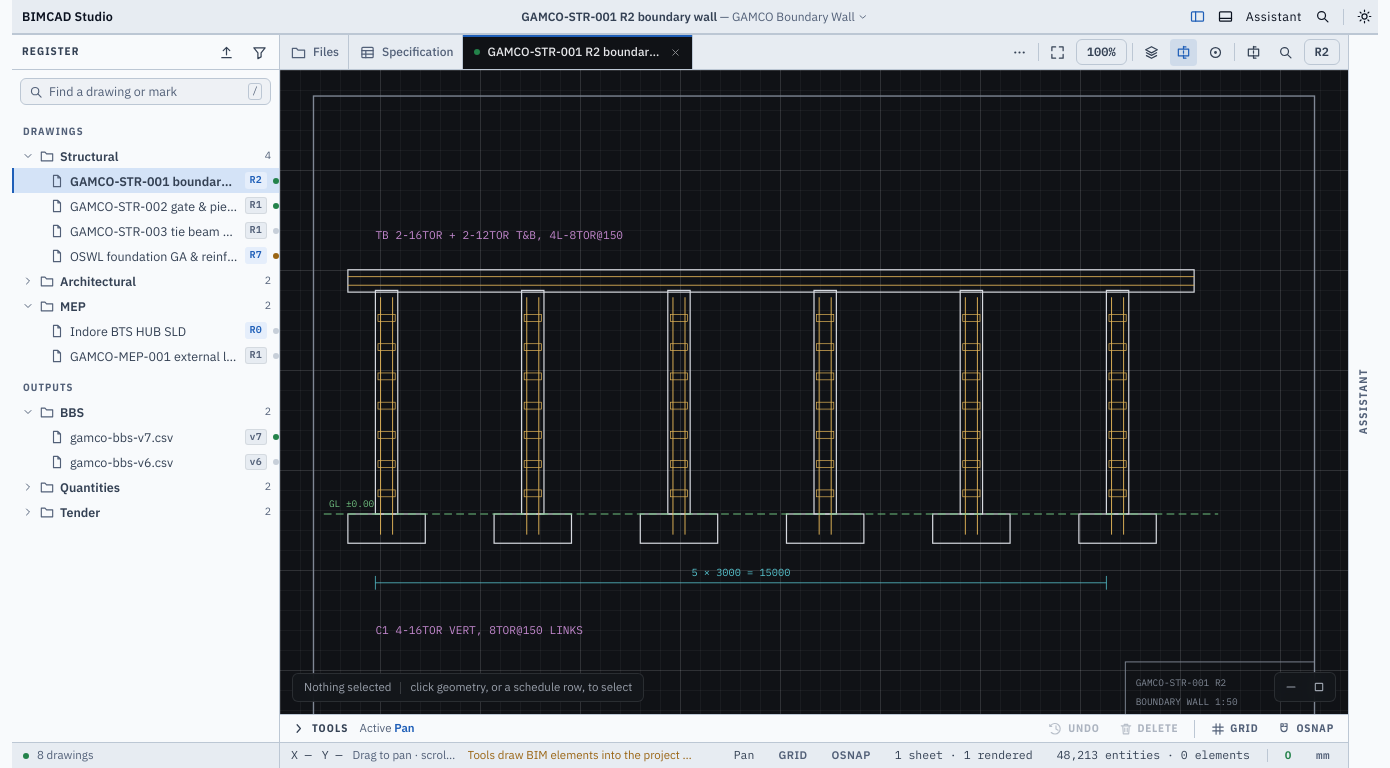
Test: the tool strip is wired to the editor › §14.1 — a tool button arms the tool and its hint reaches the status bar
Click the button with test id "toggle-tools".
click(1225, 16)  # box [1212, 4, 1239, 28]
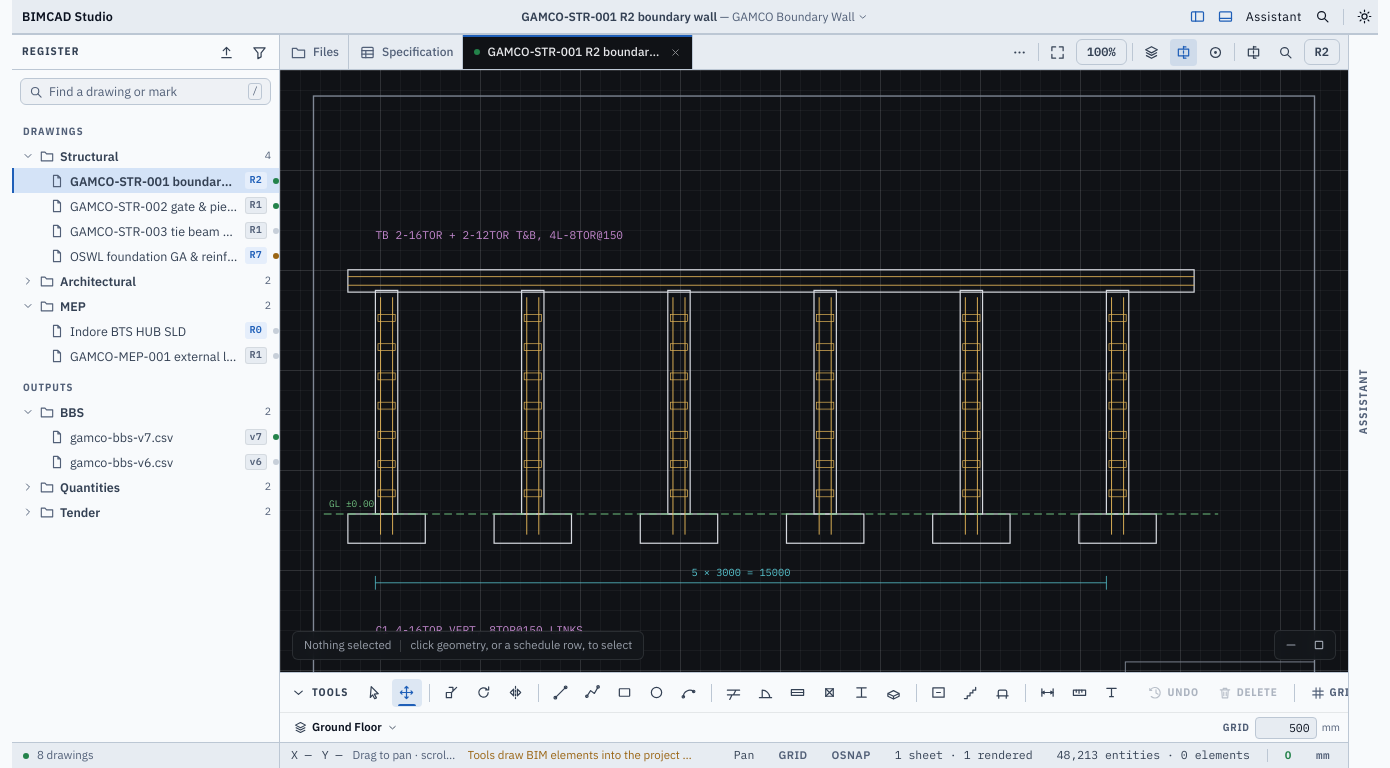
Click the button named "Rectangle".
click(624, 692)  # box [610, 678, 640, 706]
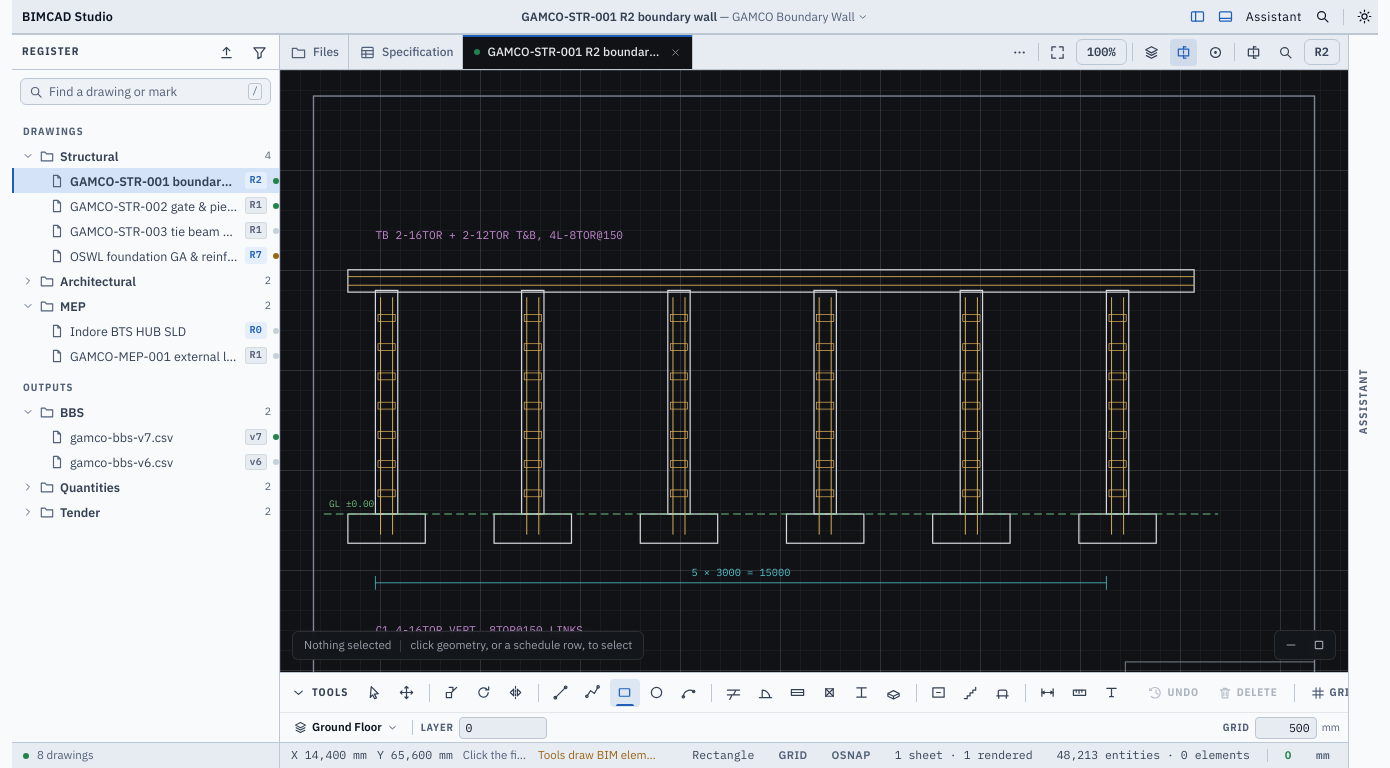
Result: the text with test id "tool-hint" reads "Click the first corner" at [463, 747, 567, 762]
Press the mouse on the drawing with class "editor-overlay" at (814, 371), box [280, 70, 1348, 672]
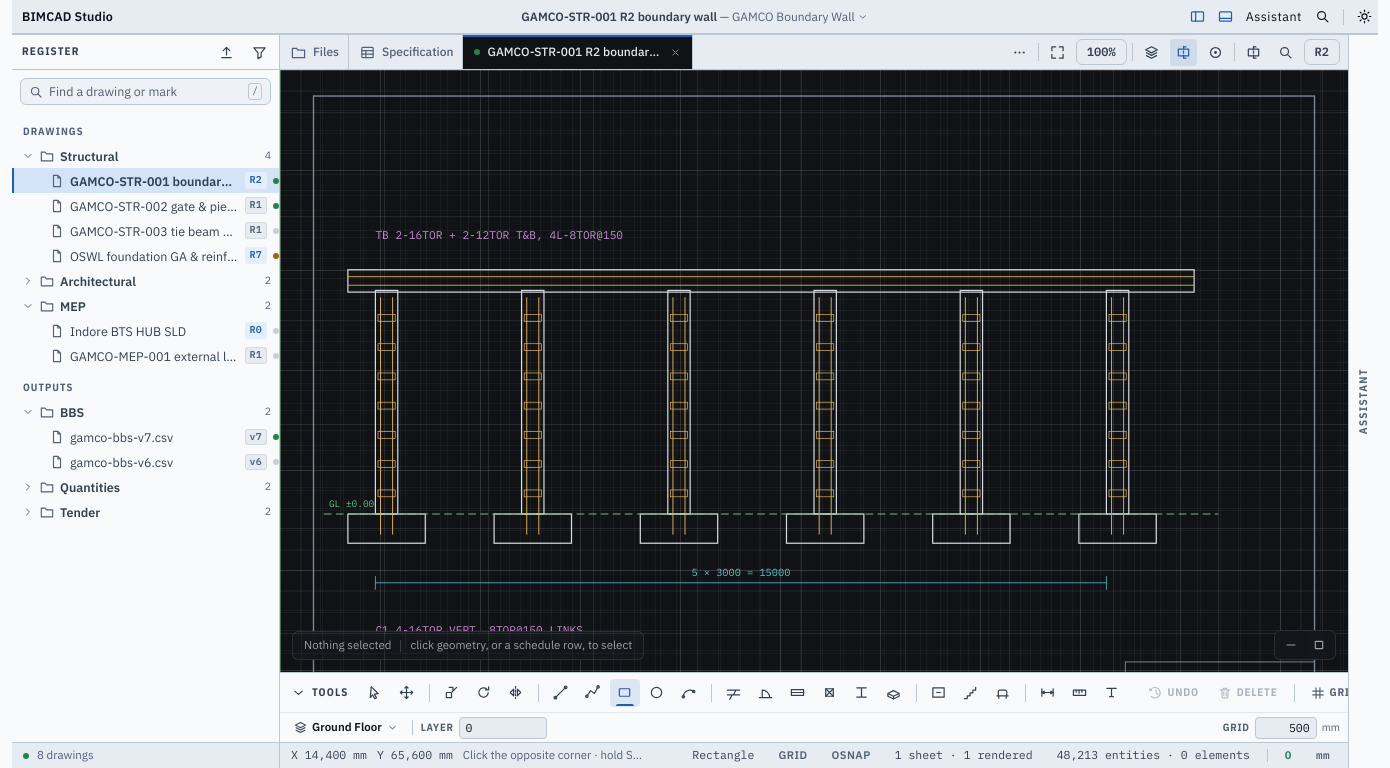
Result: the text with test id "tool-hint" shows "hold Shift for a square" at [463, 747, 835, 762]
